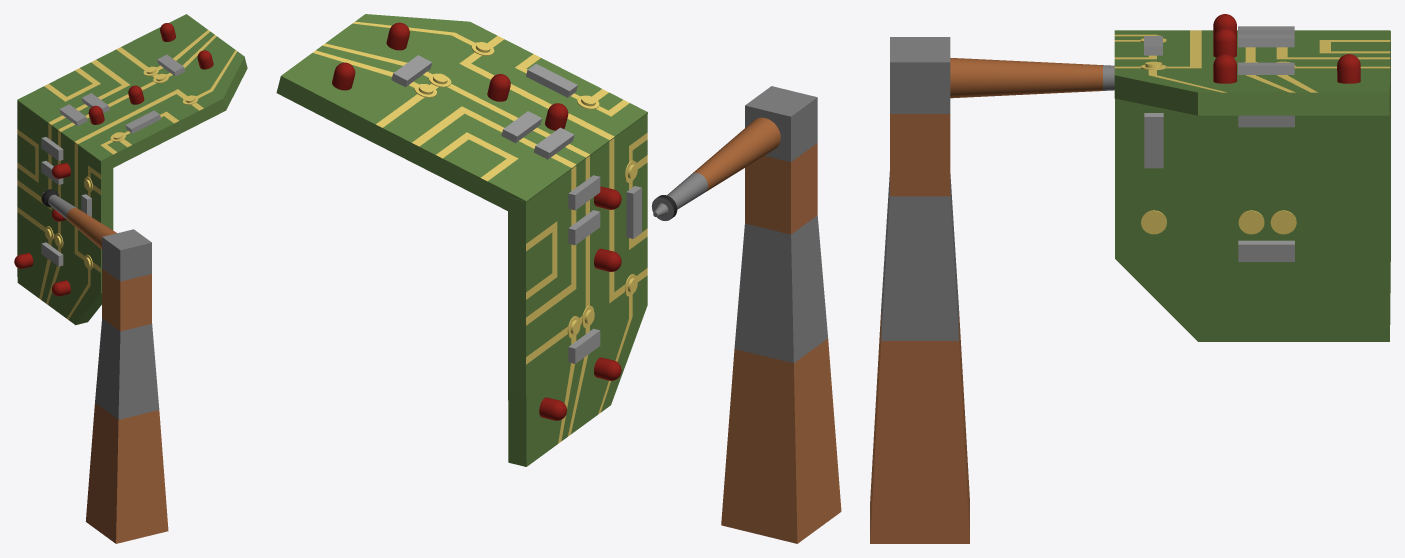
The model's file is electro_scene_model_1.gltf.
3 views of the same model, side by side, from view 1: azimuth 30°, elevation 25°; view 2: azimuth 150°, elevation 25°; view 3: azimuth 270°, elevation 25° (orthographic). The views are drawn at different scales.
Visible parts, largest first — view 1: Цилиндр.004, Сфера.001, Сфера; view 2: Цилиндр.004, Сфера.001, Сфера; view 3: Сфера, Цилиндр.004, Сфера.001.
Boxes of the visible parts, x1=… form: Цилиндр.004: x1=41, y1=189, x2=168, y2=543; Сфера.001: x1=17, y1=14, x2=247, y2=172; Сфера: x1=14, y1=101, x2=113, y2=325; Цилиндр.004: x1=651, y1=86, x2=841, y2=543; Сфера.001: x1=276, y1=14, x2=647, y2=210; Сфера: x1=508, y1=114, x2=647, y2=466; Сфера: x1=1115, y1=31, x2=1390, y2=341; Цилиндр.004: x1=870, y1=37, x2=1114, y2=543; Сфера.001: x1=1114, y1=14, x2=1390, y2=115.
Bounding box in the file's own units: 21.11 × 32 × 24.98.
